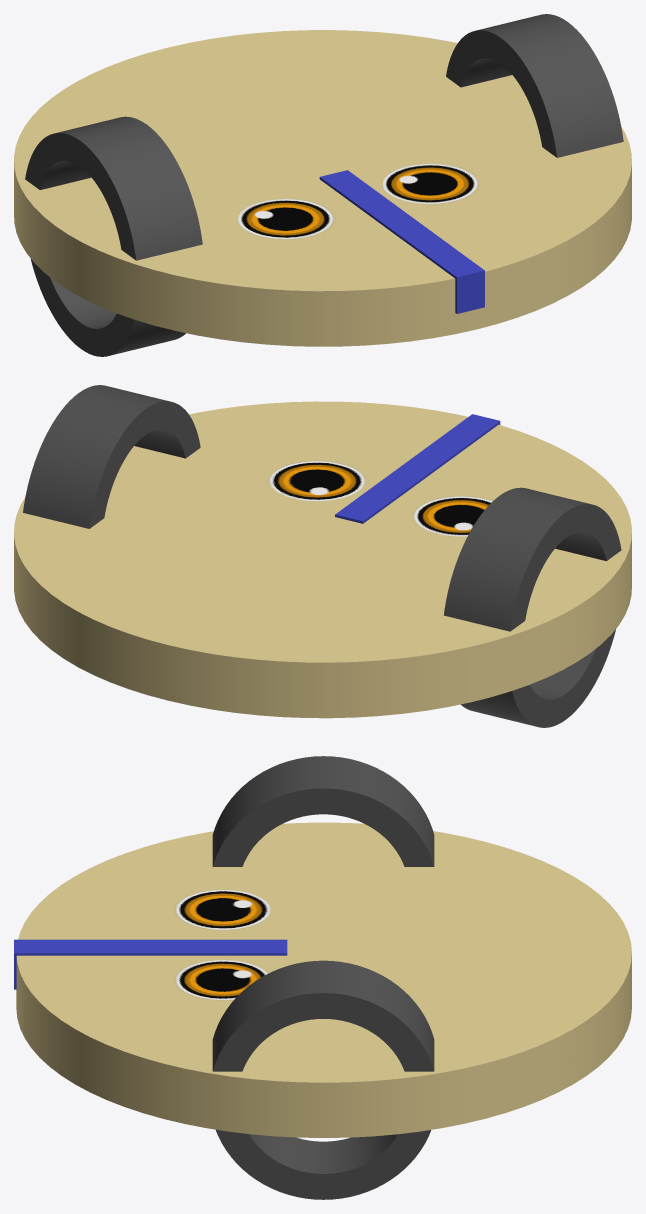
The model's file is Robo2.fbx.
The picture shows the model from 3 angles, top to bottom: view 1: azimuth 30°, elevation 25°; view 2: azimuth 150°, elevation 25°; view 3: azimuth 270°, elevation 25°; orthographic projection.
Visible parts, largest first — view 1: root (×2), node_id62, node_id111; view 2: root (×2), node_id62, node_id111; view 3: root (×2), node_id111, node_id62.
Part boxes in pixels (left/top/right/bottom): root (×2): left=14, top=30, right=631, bottom=346; node_id62: left=25, top=116, right=202, bottom=356; node_id111: left=446, top=14, right=623, bottom=157; root (×2): left=14, top=401, right=631, bottom=718; node_id62: left=443, top=487, right=621, bottom=727; node_id111: left=23, top=385, right=200, bottom=528; root (×2): left=14, top=822, right=631, bottom=1137; node_id111: left=212, top=960, right=434, bottom=1199; node_id62: left=212, top=756, right=434, bottom=866.
Size of the model in its own units: 1.28 by 0.4736 by 1.28.
Materials: 3 (2 with a texture image).
